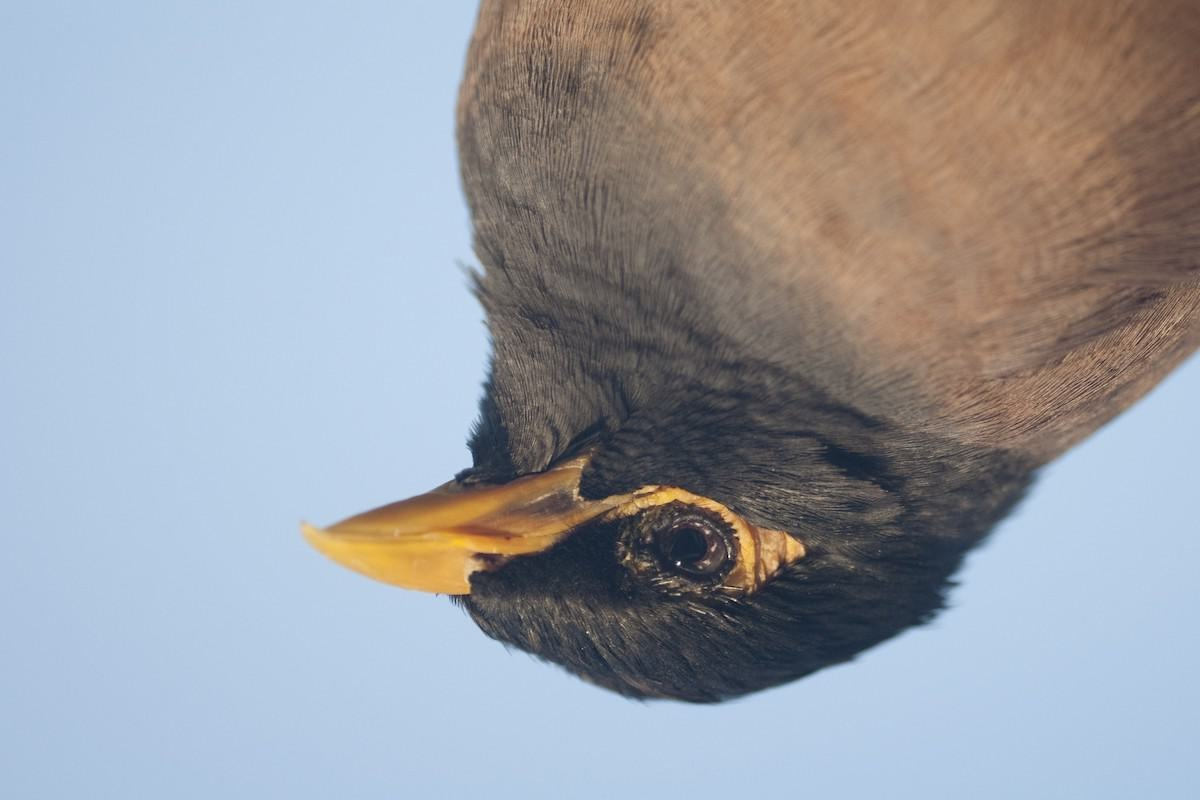myna: (281, 7, 1179, 702)
